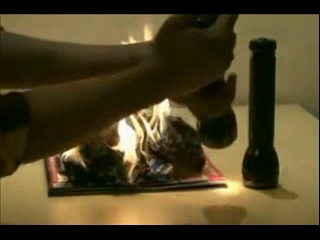fire: (114, 112, 143, 184), (147, 99, 172, 149), (120, 23, 151, 45)
